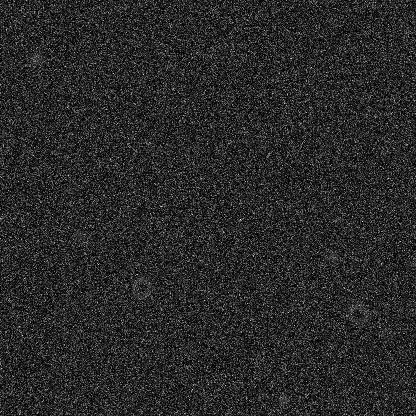Ring: (345, 301, 369, 325), (129, 275, 153, 299)
Spot: (28, 50, 44, 66), (275, 392, 291, 408), (215, 368, 231, 384), (176, 186, 192, 202), (323, 248, 339, 264), (73, 229, 89, 245)
